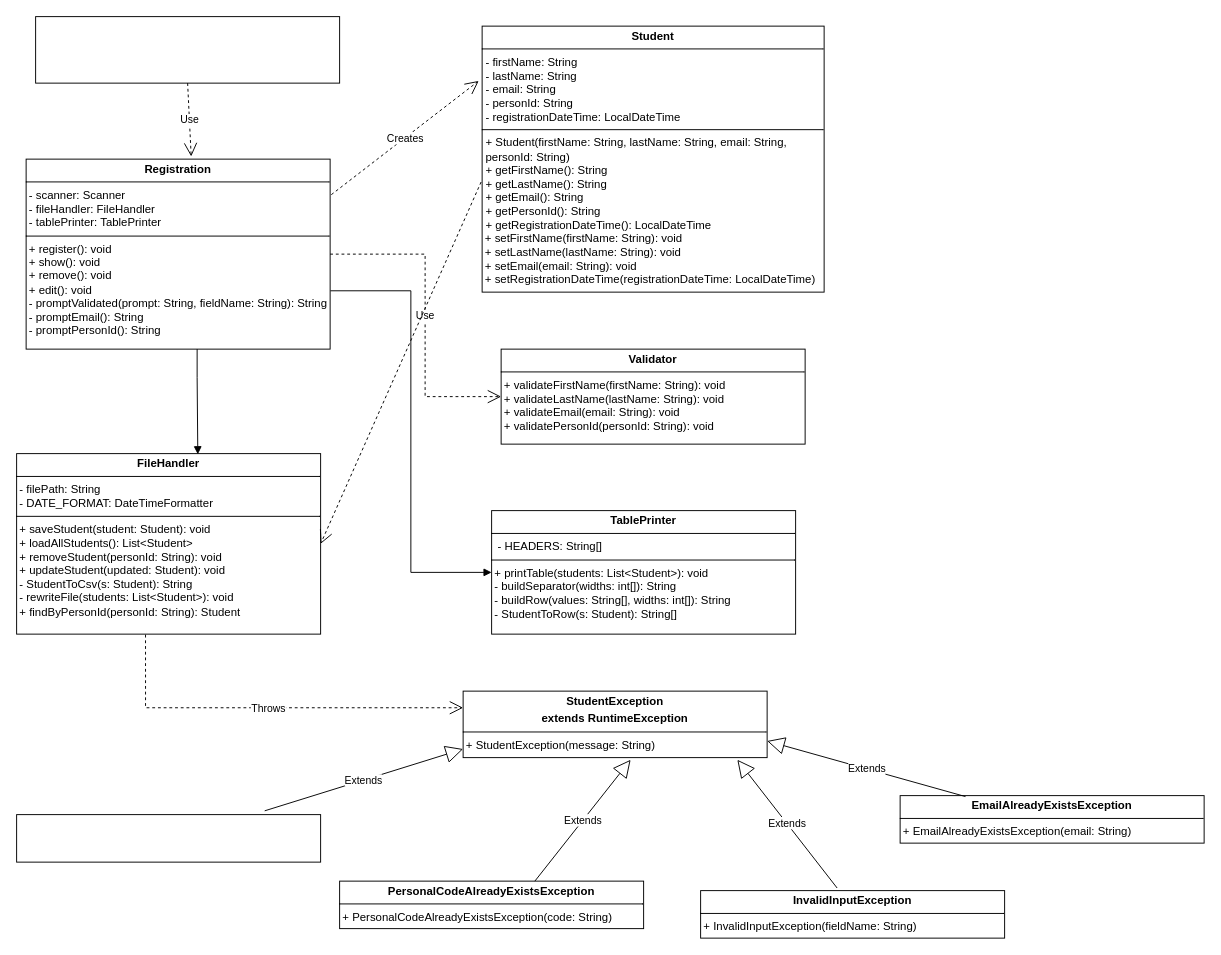
This 1221x955 diagram has some shape labels left out. Here are the shapes that lost their labels. From the top down, the box of each, then its label:
(35, 16, 340, 83): Main + main(args: String[]): void + printMenu(): void
(16, 814, 321, 862): StudentNotFoundException + StudentNotFoundException(personId: String)
